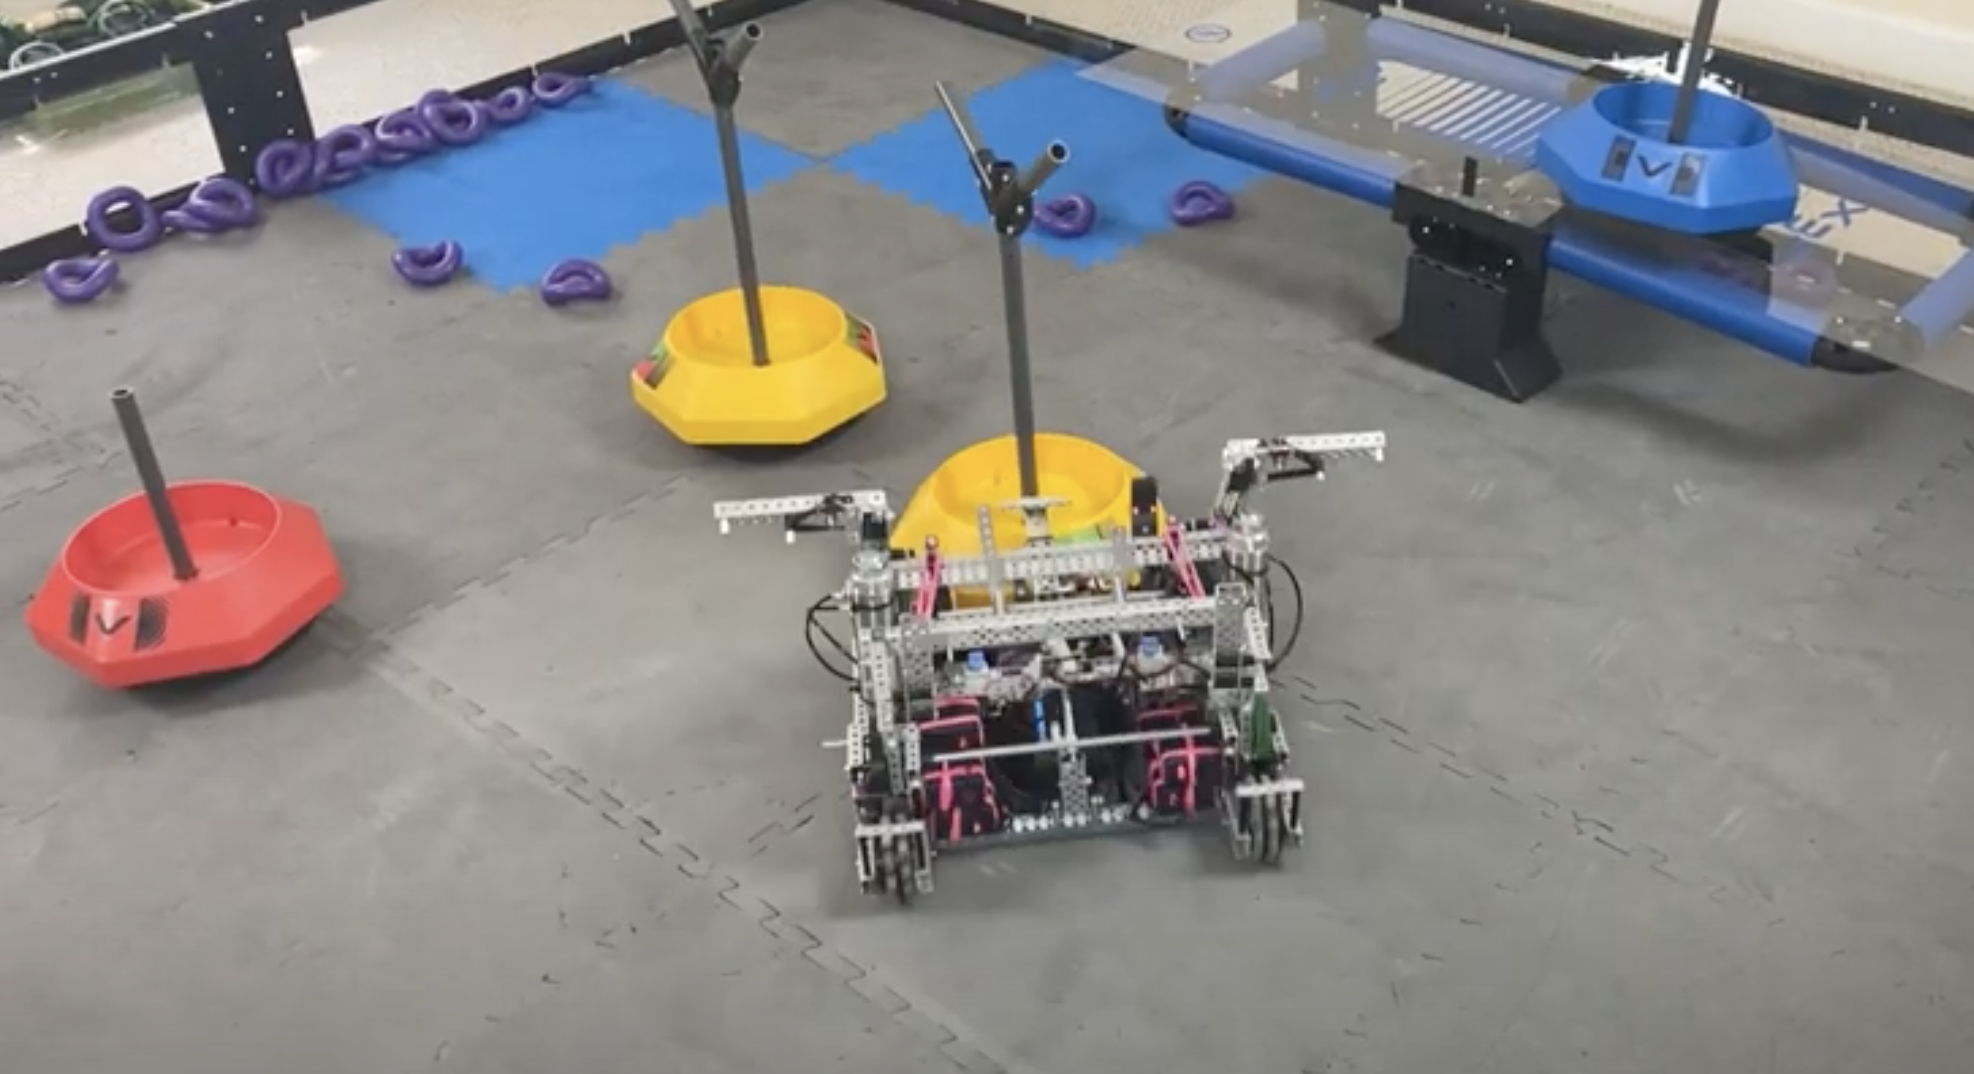ring: (86, 185, 163, 251), (1762, 257, 1839, 306), (188, 177, 259, 227), (44, 257, 118, 302), (254, 138, 311, 196), (391, 241, 464, 286), (541, 259, 611, 304), (1029, 190, 1097, 235), (1170, 181, 1235, 226), (423, 102, 487, 145), (374, 110, 436, 152), (319, 124, 375, 165), (1692, 251, 1753, 288), (475, 87, 532, 126), (532, 71, 594, 104), (295, 140, 332, 193), (163, 204, 223, 231)
